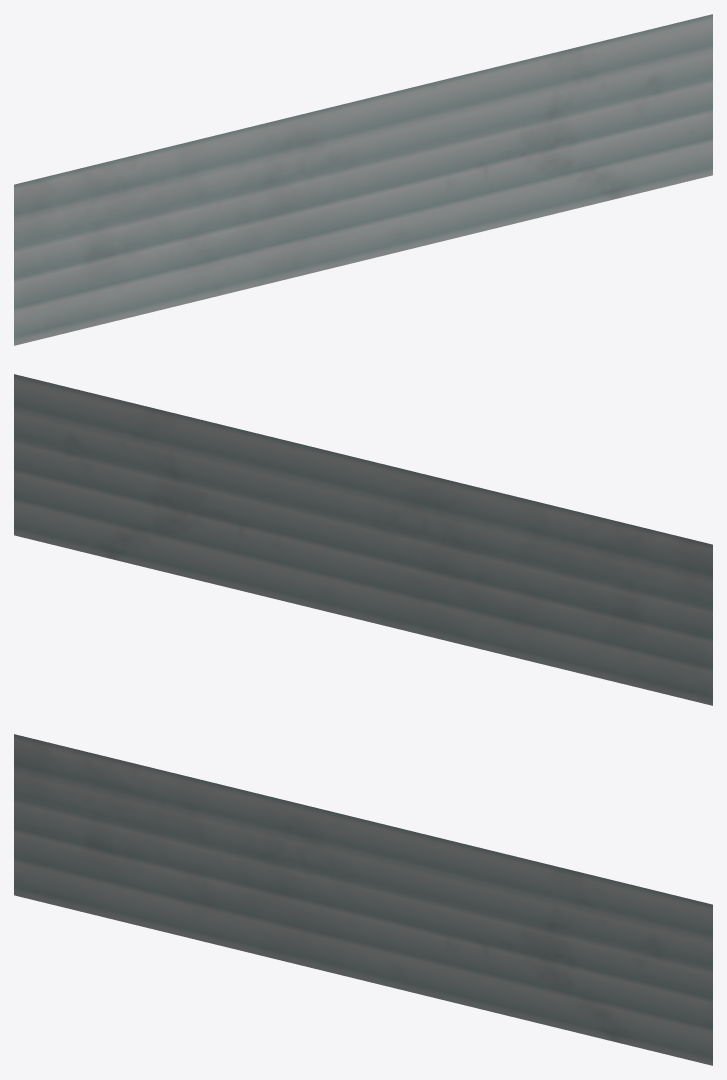
The model's file is Metromeshplus.fbx.
3 renders of one model, top to bottom at view 1: azimuth 30°, elevation 25°; view 2: azimuth 150°, elevation 25°; view 3: azimuth 330°, elevation 25°, orthographic.
Parts seen in each view (by area): view 1: MetroEndBack; view 2: MetroEndBack; view 3: MetroEndBack.
Boxes of the visible parts, x1=… form: MetroEndBack: x1=14, y1=14, x2=712, y2=345; MetroEndBack: x1=14, y1=374, x2=712, y2=705; MetroEndBack: x1=14, y1=734, x2=712, y2=1065.
Size of the model in its own units: 233 by 51.42 by 2.25e-05.
